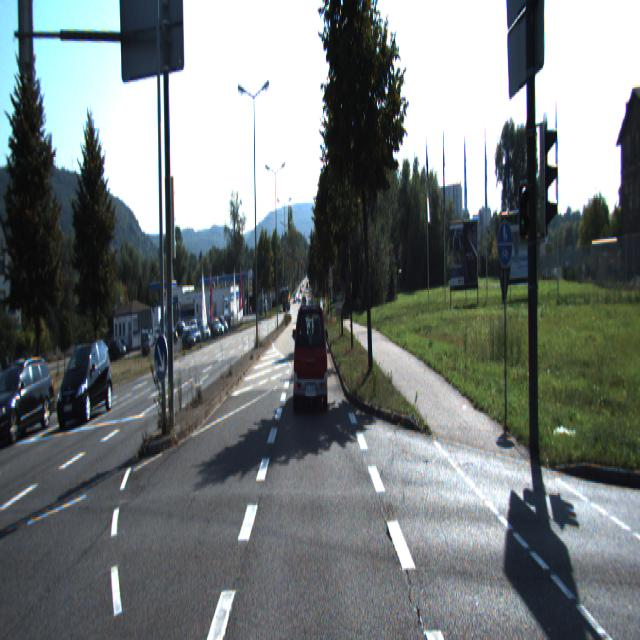Car: (55, 342, 113, 433), (0, 364, 56, 452), (293, 303, 328, 410)
